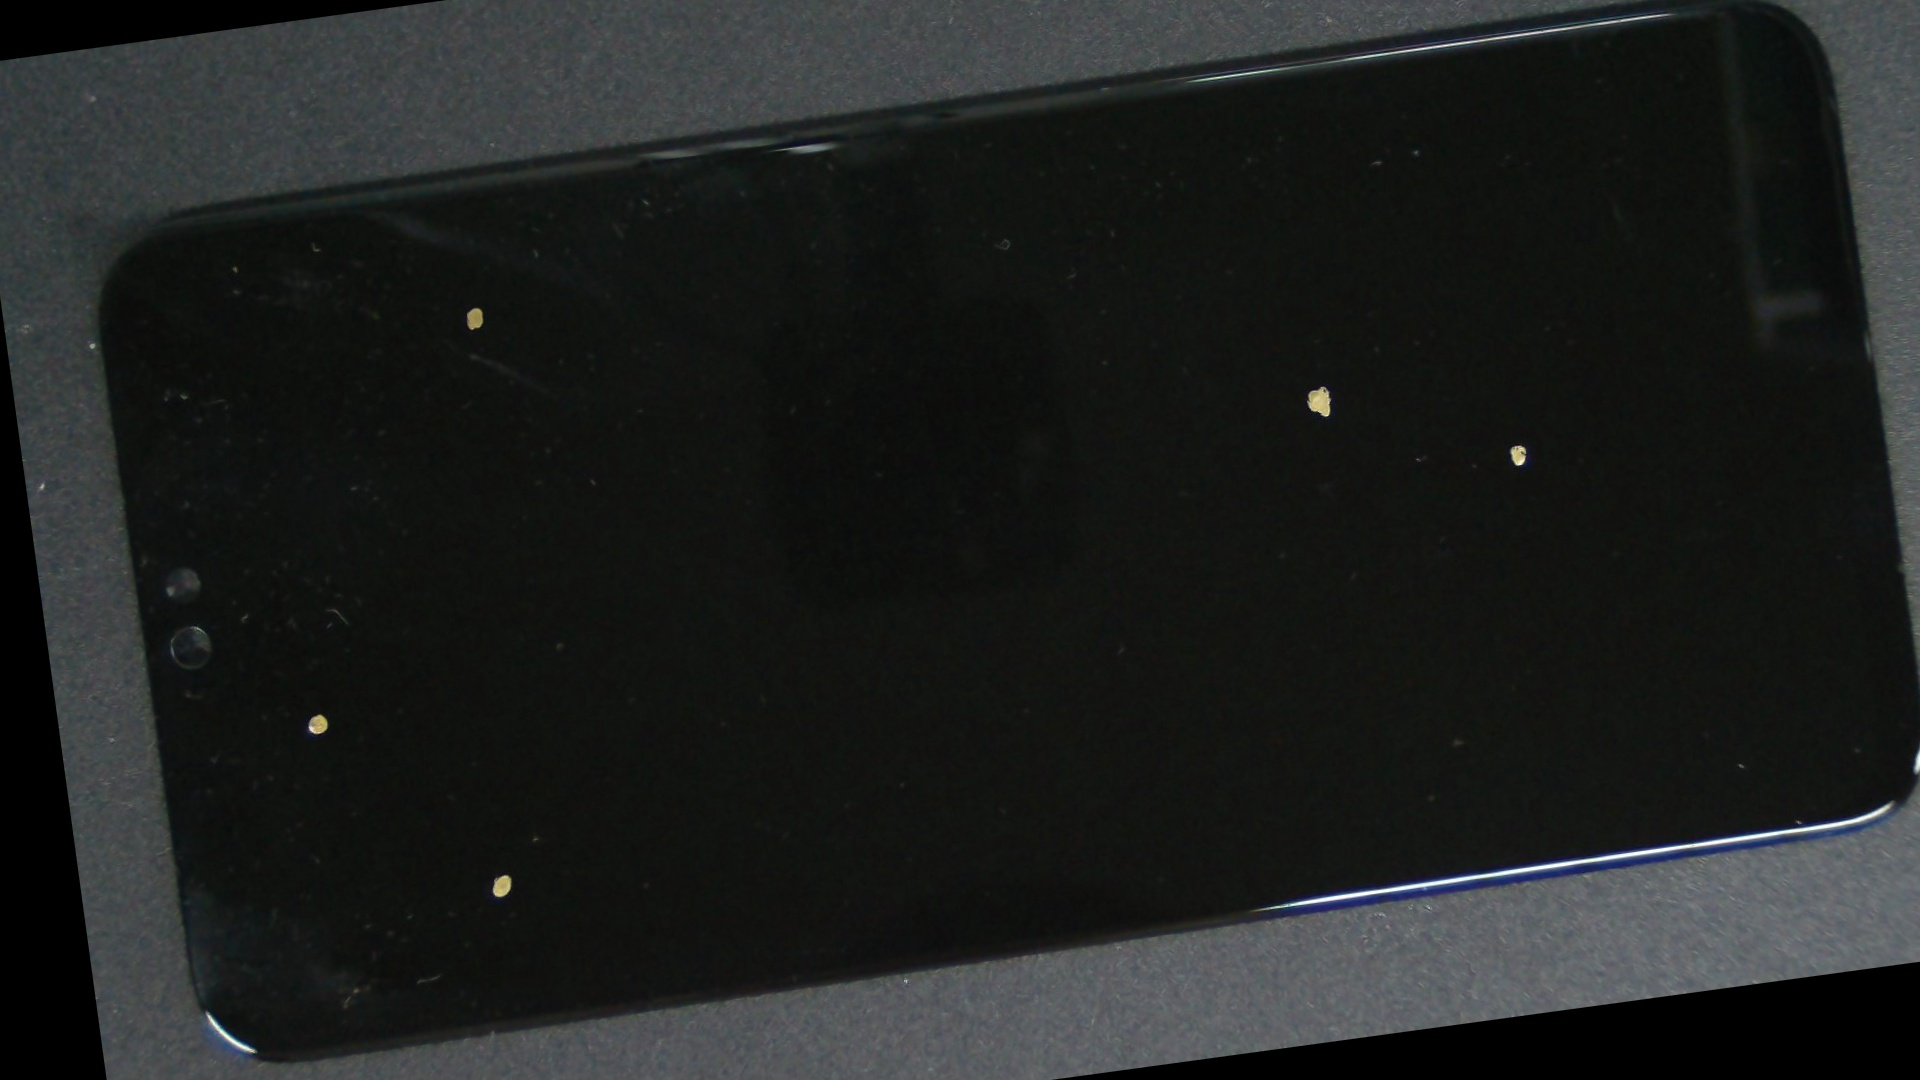oil: (744, 88, 1920, 833), (645, 50, 1920, 721), (236, 413, 748, 1080), (142, 355, 491, 1073), (222, 123, 721, 493)
